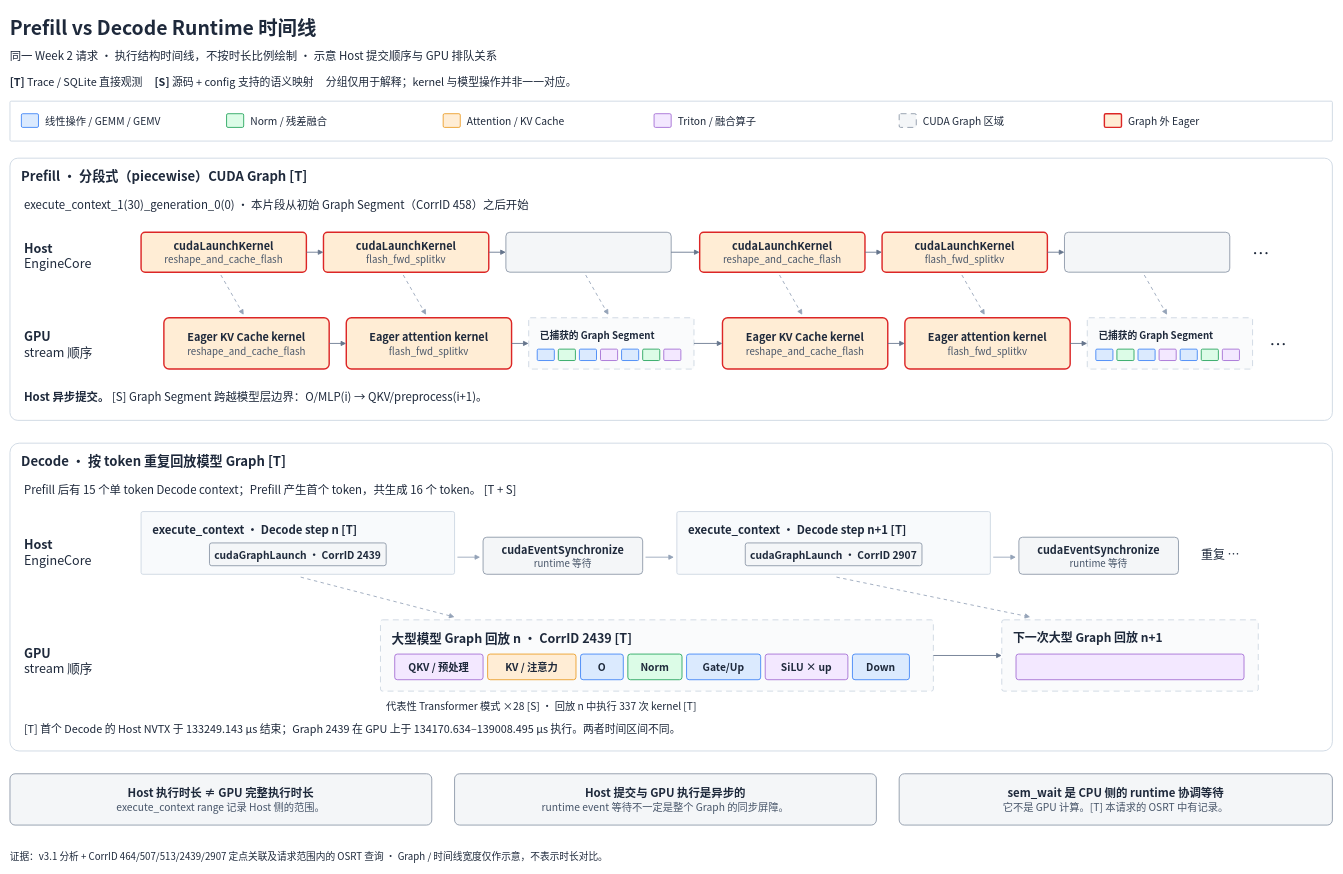
Image size: 1343x874. Some labels were removed from this diagram. The box of each missing label's shape, as (x1, y1, x2, y2) in pixels:
cudaGraphLaunch CorrID 513: (505, 232, 671, 272)
cudaGraphLaunch CorrID 568: (1064, 232, 1230, 272)
重复的 Transformer kernel ×28: (1015, 653, 1244, 680)
